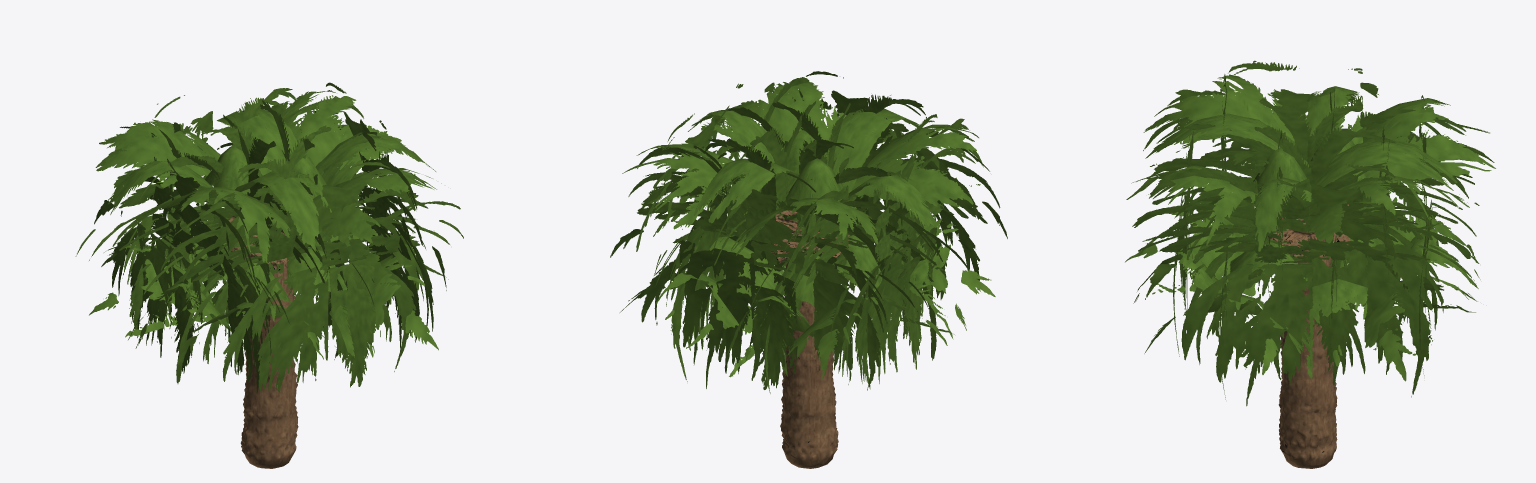
The model's file is palm-fan-near.glb.
The picture shows the model from 3 angles, left to right: view 1: azimuth 30°, elevation 25°; view 2: azimuth 150°, elevation 25°; view 3: azimuth 270°, elevation 25°; orthographic projection. The views are drawn at different scales.
Parts seen in each view (by area): view 1: Foliage, Wood; view 2: Foliage, Wood; view 3: Foliage, Wood.
Boxes of the visible parts, <box> form: Foliage: <box>75,82,463,393</box>; Wood: <box>228,210,298,468</box>; Foliage: <box>610,71,1007,393</box>; Wood: <box>771,210,849,468</box>; Foliage: <box>1125,60,1495,406</box>; Wood: <box>1267,204,1350,468</box>.
Bounding box in the file's own units: 12.78 × 13.03 × 12.94.
2 materials, 2 textured.
